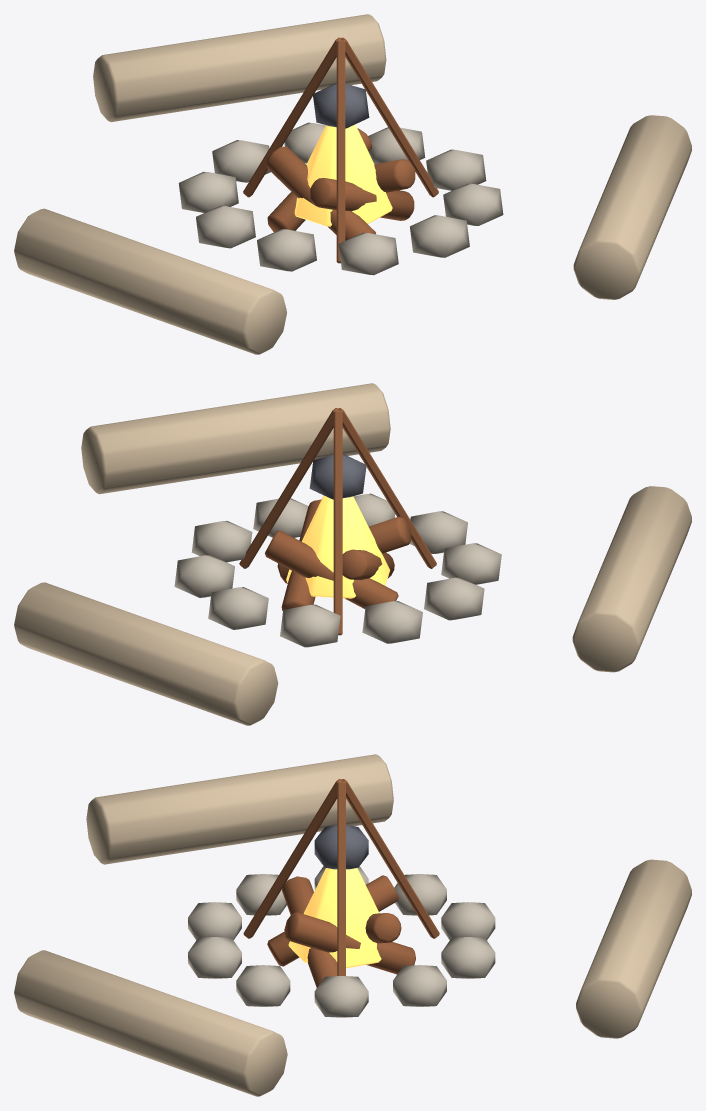
3 renders of one model, top to bottom at view 1: azimuth 30°, elevation 25°; view 2: azimuth 150°, elevation 25°; view 3: azimuth 270°, elevation 25°, orthographic.
Parts seen in each view (by area): view 1: driftwood, limestone, toasted_wood, Fire_Outer, Kettle; view 2: driftwood, limestone, toasted_wood, Fire_Outer, Kettle; view 3: driftwood, limestone, toasted_wood, Fire_Outer, Kettle.
Boxes of the visible parts, bbox=[...] form: driftwood: bbox=[14, 14, 691, 354]; limestone: bbox=[178, 122, 503, 275]; toasted_wood: bbox=[243, 37, 438, 263]; Fire_Outer: bbox=[294, 124, 392, 226]; Kettle: bbox=[312, 83, 369, 128]; driftwood: bbox=[14, 383, 691, 725]; limestone: bbox=[174, 493, 501, 647]; toasted_wood: bbox=[239, 408, 436, 635]; Fire_Outer: bbox=[286, 495, 390, 598]; Kettle: bbox=[309, 454, 366, 499]; driftwood: bbox=[14, 754, 691, 1096]; limestone: bbox=[188, 866, 495, 1017]; toasted_wood: bbox=[243, 779, 439, 987]; Fire_Outer: bbox=[288, 868, 393, 968]; Kettle: bbox=[314, 824, 368, 869].
Size of the model in its own units: 4.91 by 1.44 by 4.68.
